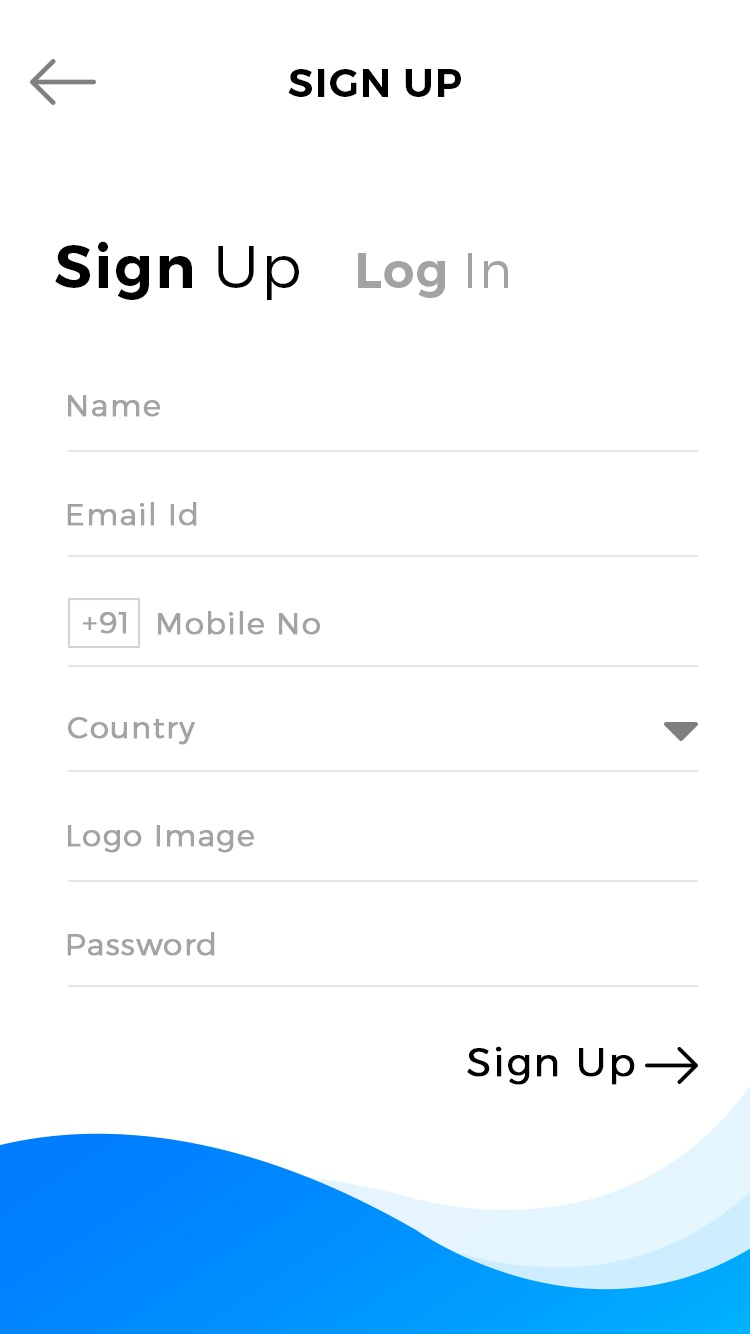EditText: (68, 598, 699, 668), (68, 824, 699, 883), (68, 395, 699, 453), (67, 931, 699, 988), (68, 716, 699, 773), (68, 502, 699, 558)
Icon: (30, 59, 97, 106), (645, 1046, 699, 1085), (664, 721, 699, 742)
Spinner: (68, 716, 699, 773)
Text: (56, 241, 301, 302), (358, 253, 509, 300), (467, 1046, 635, 1086), (68, 825, 255, 854), (289, 69, 462, 99), (158, 611, 321, 636), (68, 716, 196, 746), (67, 932, 216, 957), (68, 503, 197, 527), (68, 395, 161, 418)
